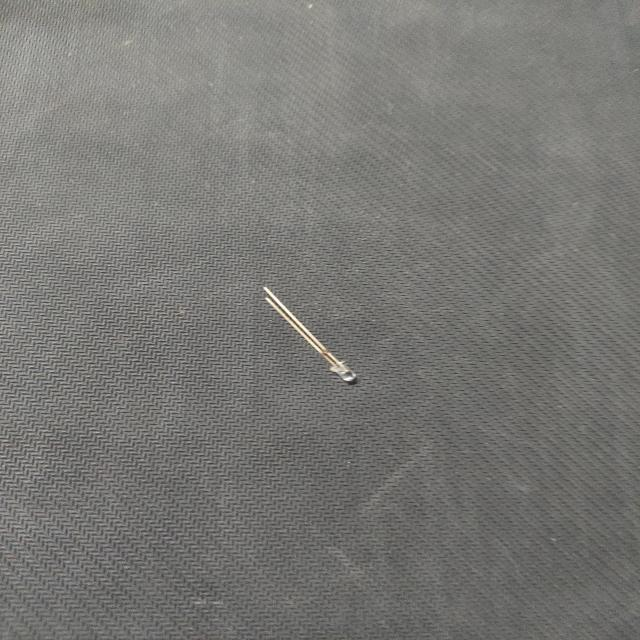led: (254, 280, 376, 392)
